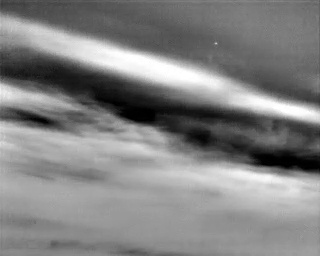BIRD: (213, 39, 220, 48)
